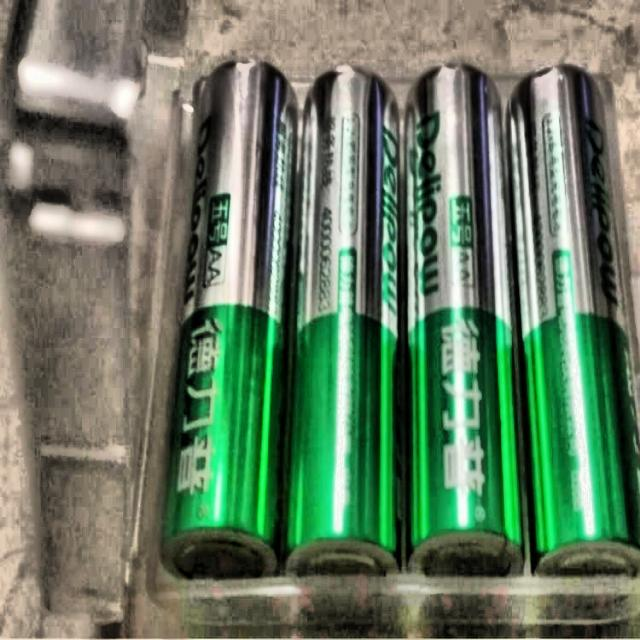Non-Valuable Waste - Batteries: (161, 64, 296, 576), (509, 67, 640, 573), (405, 66, 522, 574), (286, 67, 399, 573)
